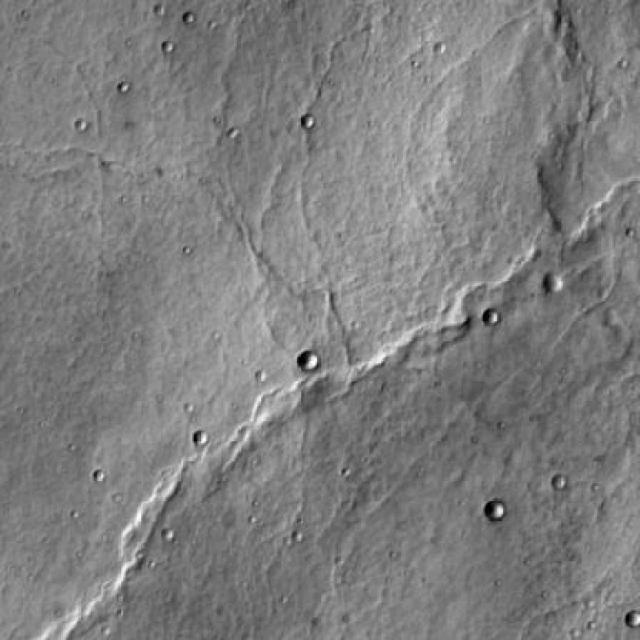crater: (482, 502, 504, 524), (299, 352, 319, 372), (546, 276, 566, 296)
